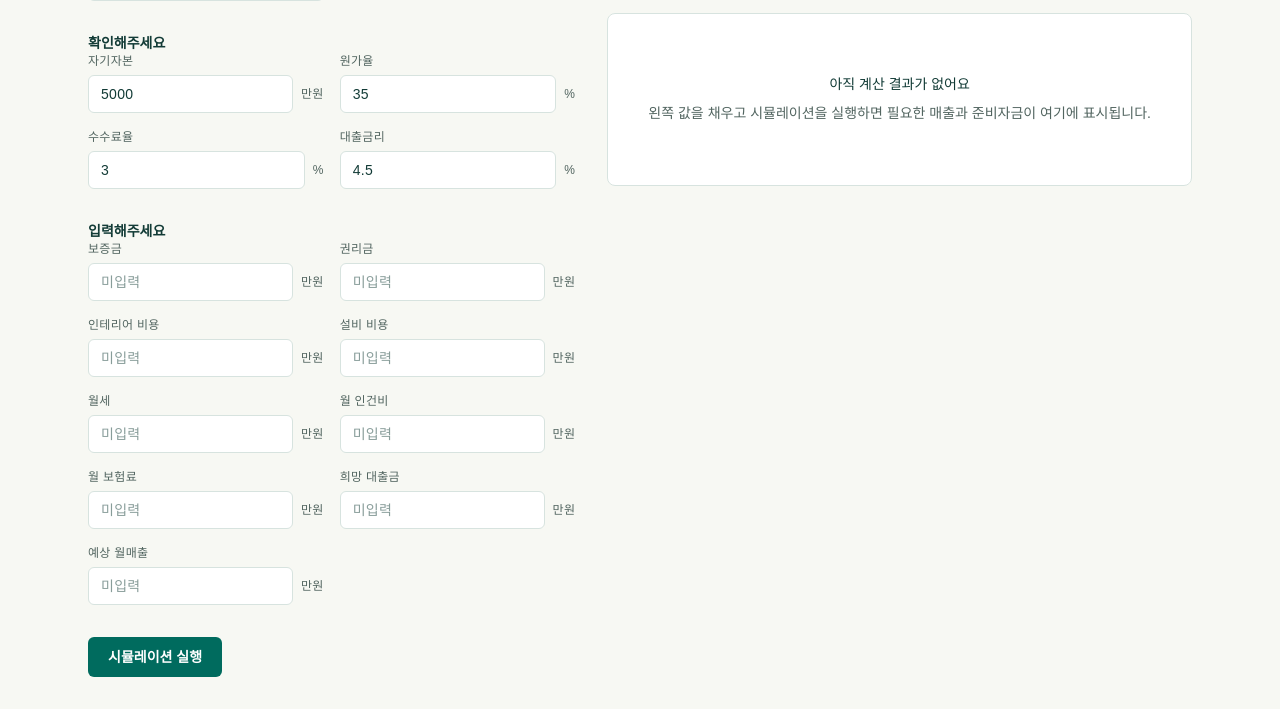
두 번째 계산에서 비교표가 뜨고 현재안이 선택된다
The image size is (1280, 709).
(page scrolled)
Click the button "시뮬레이션 실행" at (155, 657), box x1=88 y1=637 x2=222 y2=677
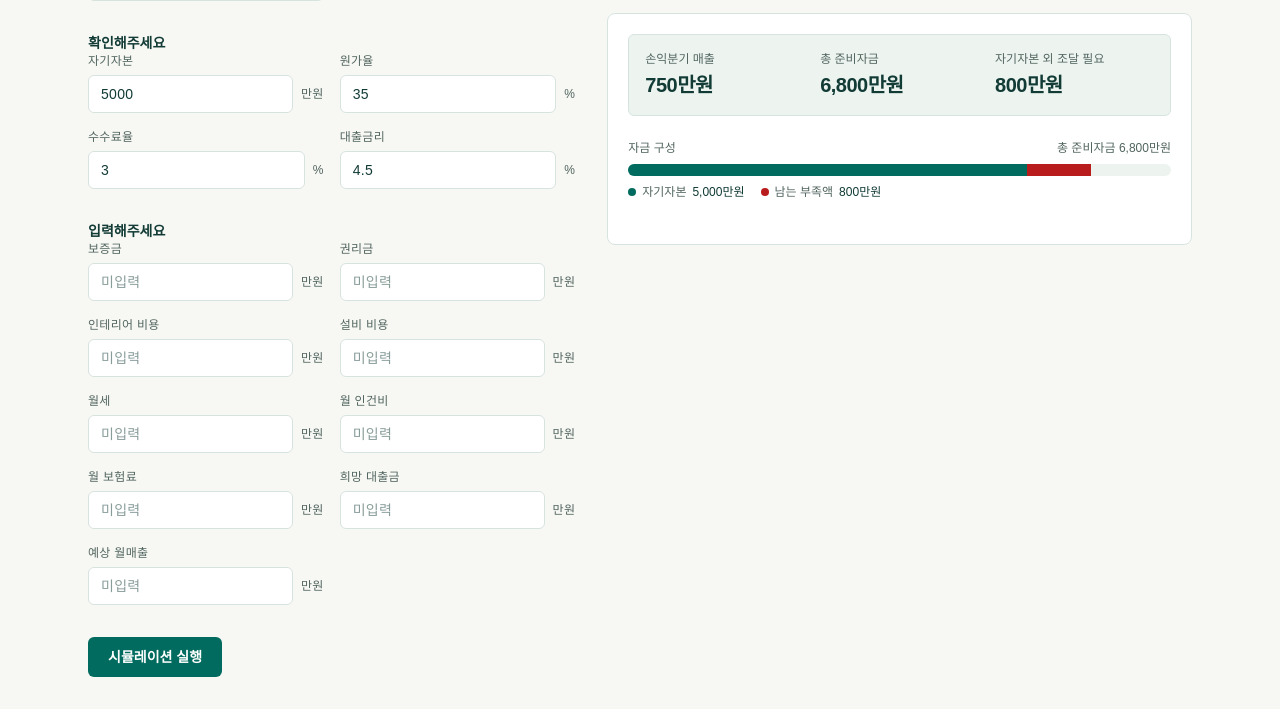
Check: the text "자기자본 외 조달 필요" is shown, box x1=995 y1=52 x2=1104 y2=66
Type "100" into the number field labelled "월세 만원" at (190, 434), box x1=88 y1=415 x2=293 y2=453
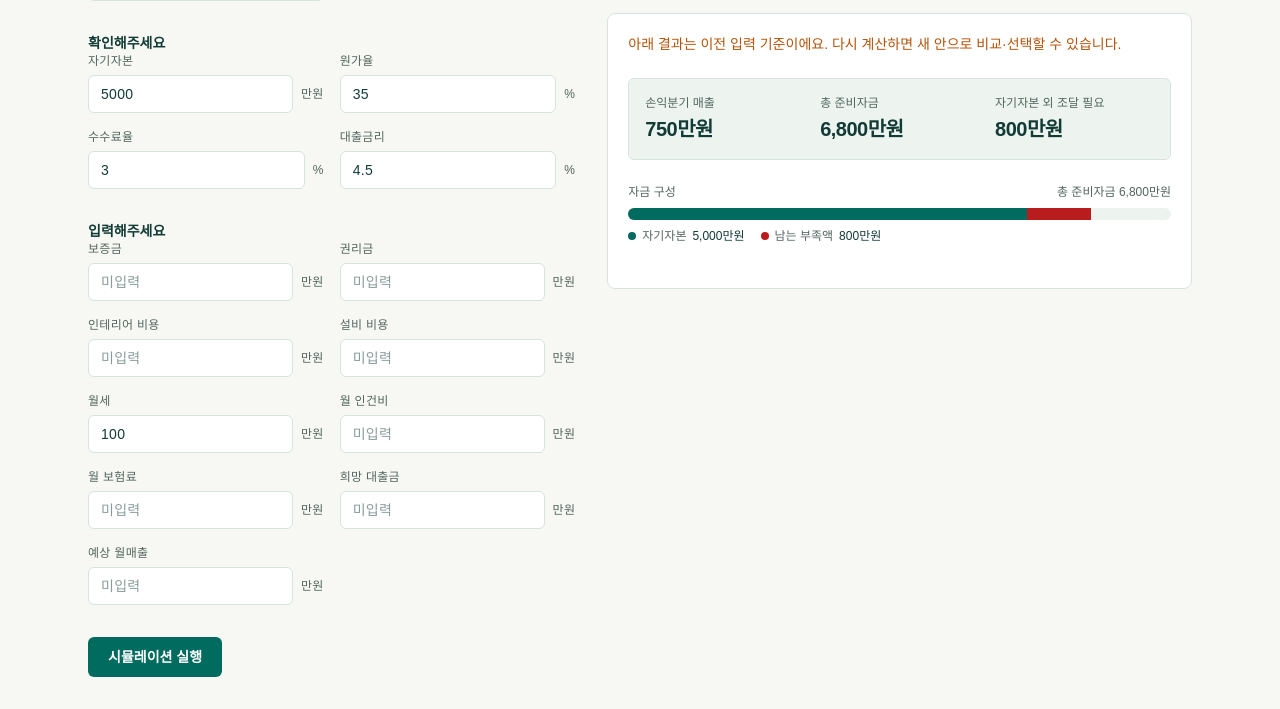
Click the button "시뮬레이션 실행" at (155, 657), box x1=88 y1=637 x2=222 y2=677
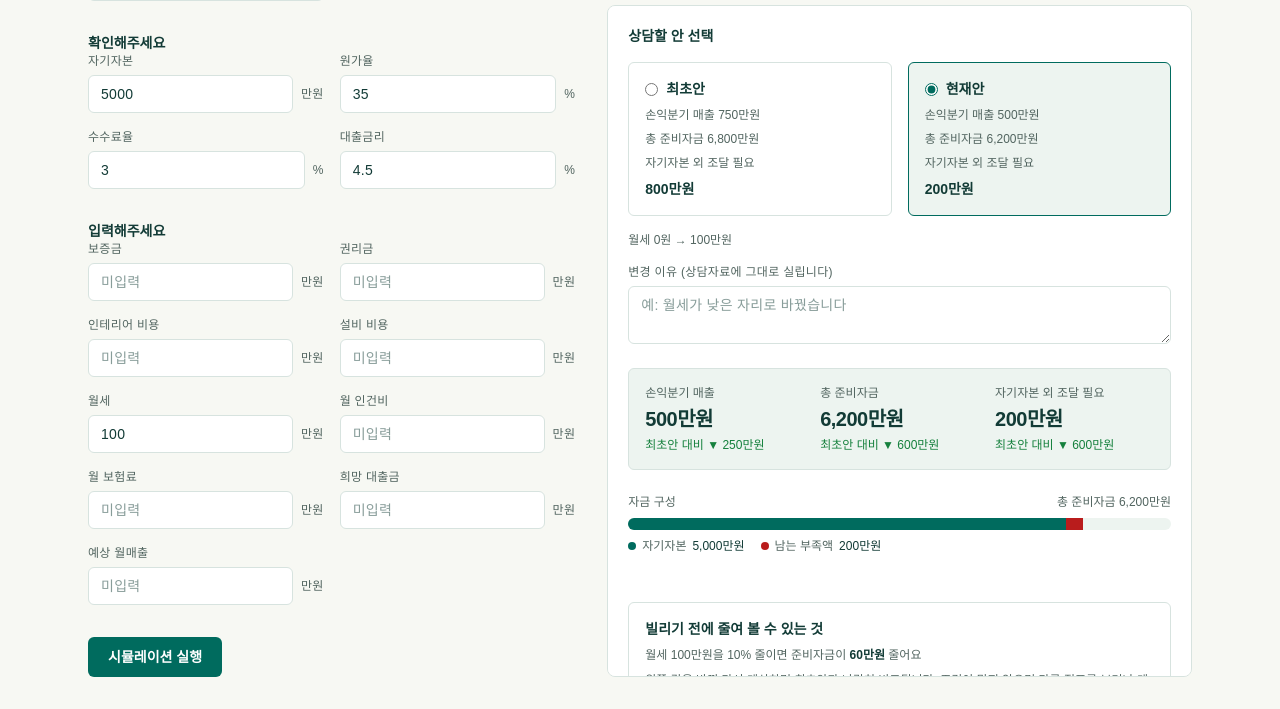
Check: the radio button labelled "현재안 손익분기 매출 500만원 총 준비자금 6,200만원 자기자본 외 조달 필요 200만원" is checked, box x1=925 y1=82 x2=938 y2=96
Check: the list item "월세 0원 → 100만원" is shown, box x1=628 y1=233 x2=732 y2=247
